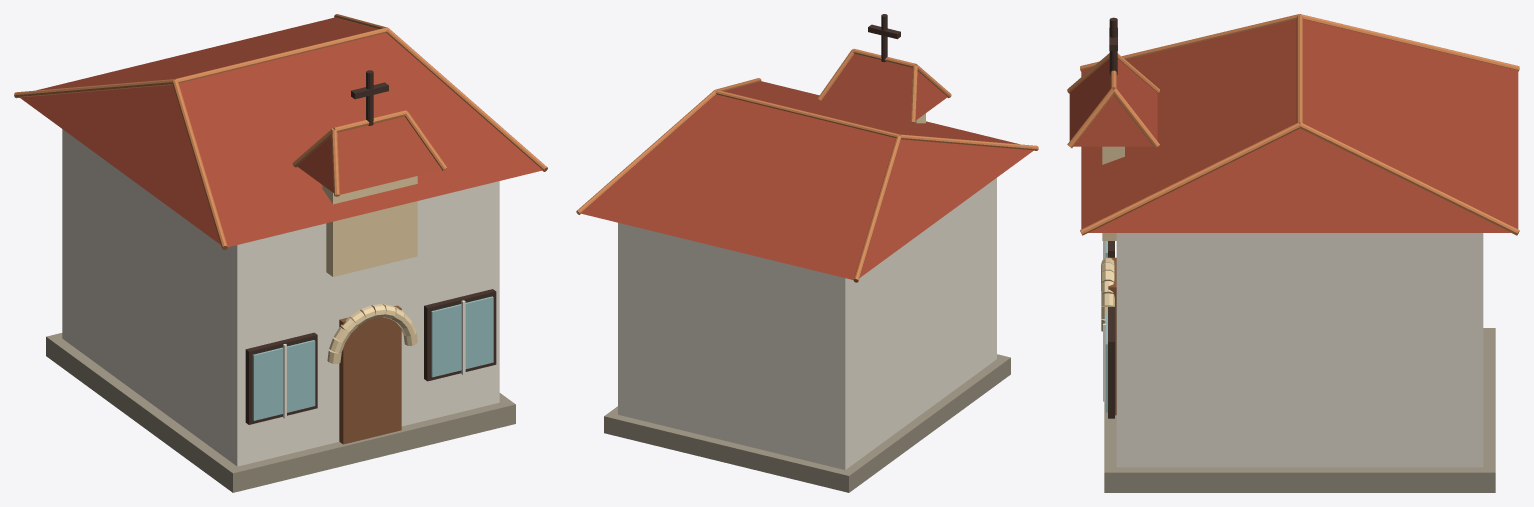
The model's file is 005_wayside_chapel.glb.
3 views of the same model, side by side, from view 1: azimuth 30°, elevation 25°; view 2: azimuth 150°, elevation 25°; view 3: azimuth 270°, elevation 25° (orthographic). The views are drawn at different scales.
Visible parts, largest first — view 1: Wayside chapel; view 2: Wayside chapel; view 3: Wayside chapel.
Boxes of the visible parts, x1,y1,x2,y2 form: Wayside chapel: (14,14,547,492); Wayside chapel: (576,14,1038,492); Wayside chapel: (1067,14,1519,492).
Bounding box in the file's own units: 5.59 × 6.28 × 6.42.
